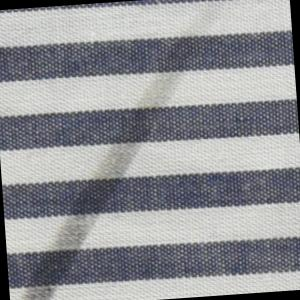Wrinkle: (1, 5, 243, 300)
